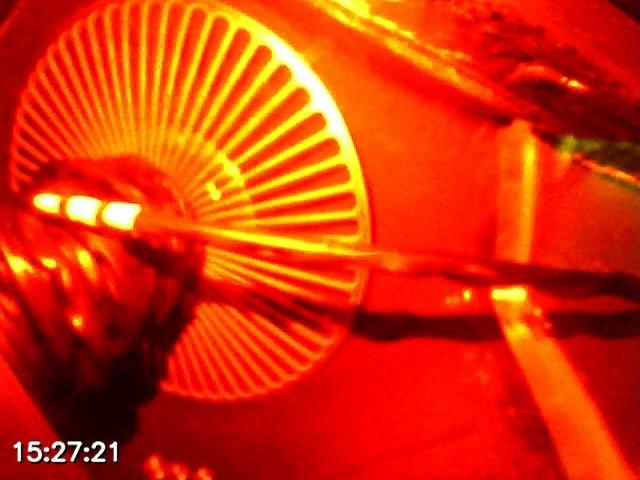white-dots: (33, 193, 142, 232)
